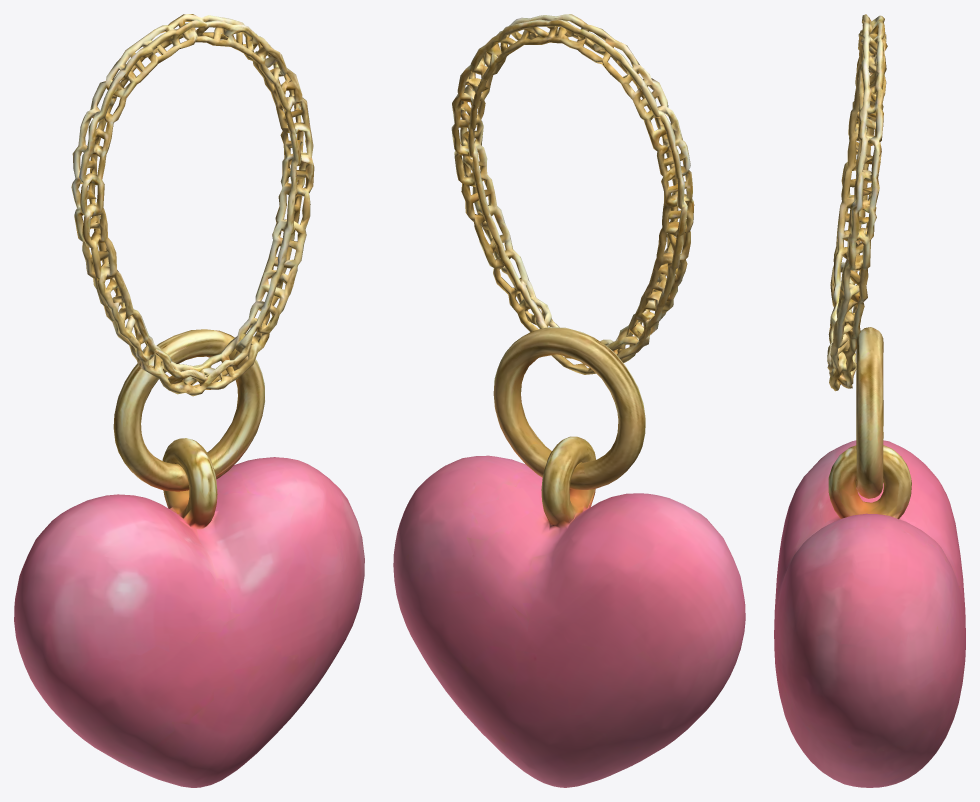
File: neck-pendant.glb
The picture shows the model from 3 angles, left to right: view 1: azimuth 30°, elevation 25°; view 2: azimuth 150°, elevation 25°; view 3: azimuth 270°, elevation 25°; orthographic projection.
Visible parts, largest first — view 1: tripo_node_802156d1-de8e-451e-b3f9-3da4839af6f6; view 2: tripo_node_802156d1-de8e-451e-b3f9-3da4839af6f6; view 3: tripo_node_802156d1-de8e-451e-b3f9-3da4839af6f6.
Boxes of the visible parts, box(x1,y1,x2,y2) form: tripo_node_802156d1-de8e-451e-b3f9-3da4839af6f6: box(14, 14, 364, 787); tripo_node_802156d1-de8e-451e-b3f9-3da4839af6f6: box(393, 14, 745, 787); tripo_node_802156d1-de8e-451e-b3f9-3da4839af6f6: box(774, 14, 965, 787).
Bounding box in the file's own units: 0.4529 × 1 × 0.2288.
Materials: 1 (1 with a texture image).
